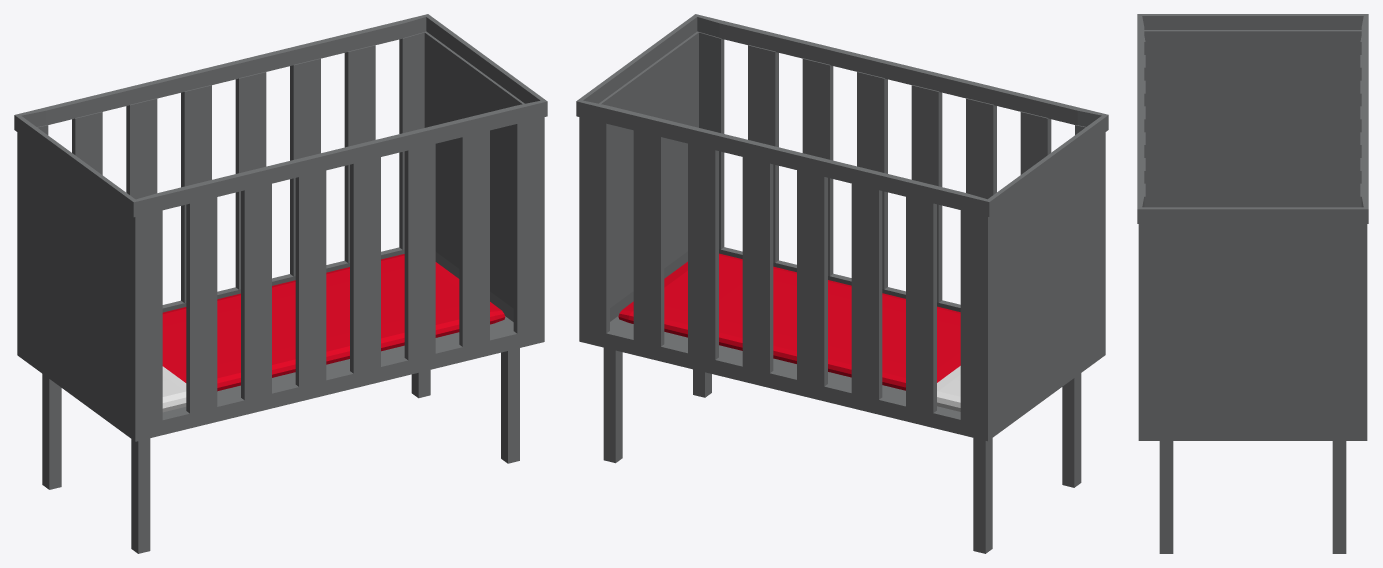
The model's file is crib.fbx.
The picture shows the model from 3 angles, left to right: view 1: azimuth 30°, elevation 25°; view 2: azimuth 150°, elevation 25°; view 3: azimuth 270°, elevation 25°; orthographic projection. The views are drawn at different scales.
Visible parts, largest first — view 1: Cube, Cube.001, Cube.004, Cube.002; view 2: Cube, Cube.001, Cube.004, Cube.002; view 3: Cube, Cube.004.
Part boxes in pixels (<box>): Cube: <box>14,14,547,441</box>; Cube.001: <box>162,254,505,391</box>; Cube.004: <box>42,348,519,553</box>; Cube.002: <box>162,366,186,412</box>; Cube: <box>576,14,1108,441</box>; Cube.001: <box>618,253,960,390</box>; Cube.004: <box>603,347,1081,553</box>; Cube.002: <box>937,366,960,411</box>; Cube: <box>1137,14,1368,440</box>; Cube.004: <box>1159,441,1346,553</box>.
Size of the model in its own units: 405 by 341 by 202.
